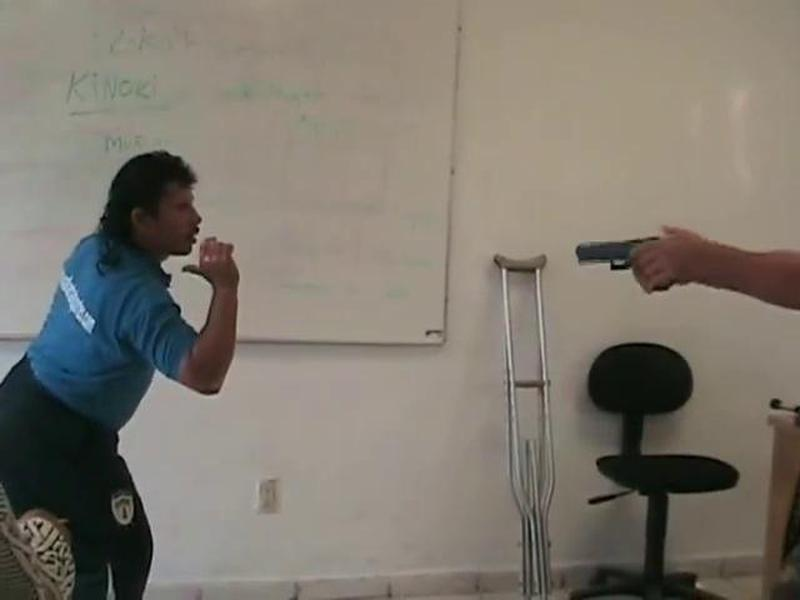Pistola: (568, 223, 689, 308)
